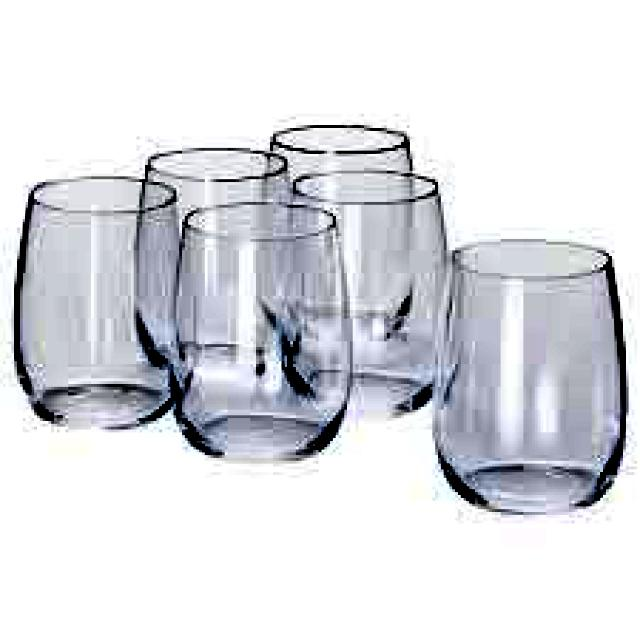Glass: (434, 235, 628, 517), (168, 198, 354, 464), (12, 170, 183, 434), (287, 165, 464, 417)
